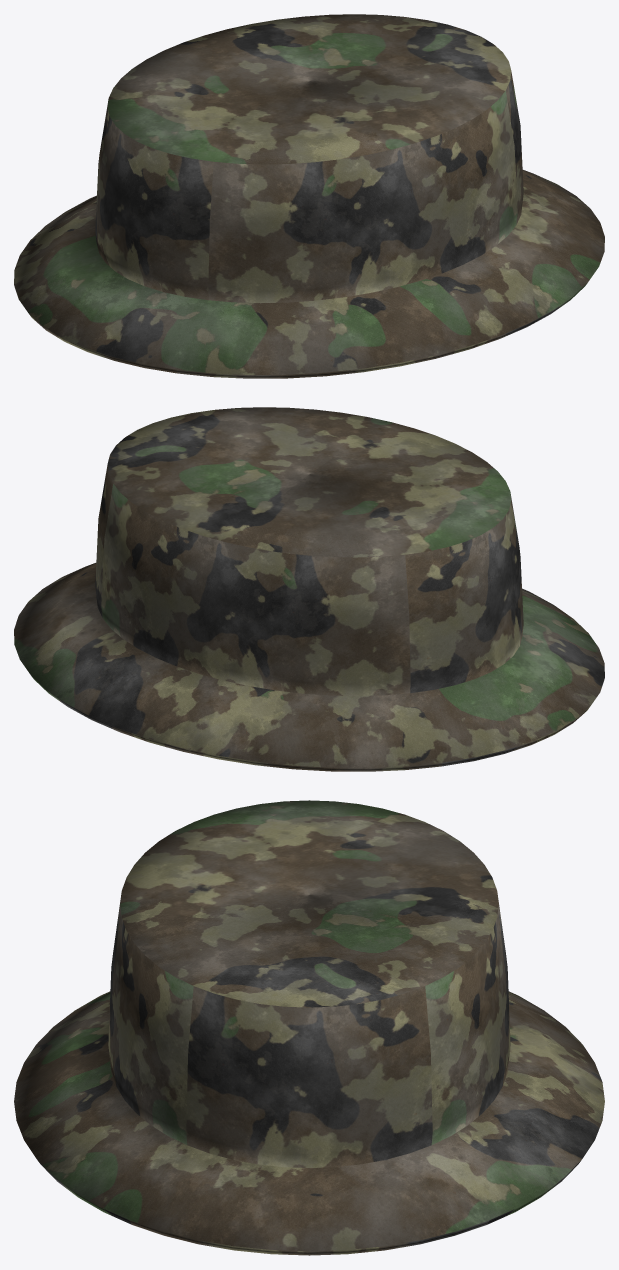
The model's file is buckethat2.fbx.
The picture shows the model from 3 angles, top to bottom: view 1: azimuth 30°, elevation 25°; view 2: azimuth 150°, elevation 25°; view 3: azimuth 270°, elevation 25°; orthographic projection. The views are drawn at different scales.
Visible parts, largest first — view 1: buckethat2; view 2: buckethat2; view 3: buckethat2.
Boxes of the visible parts, x1,y1,x2,y2 form: buckethat2: (14,14,604,378); buckethat2: (14,407,604,771); buckethat2: (14,800,604,1255).
Size of the model in its own units: 1.08 by 0.359 by 0.9039.
1 material, 1 textured.
